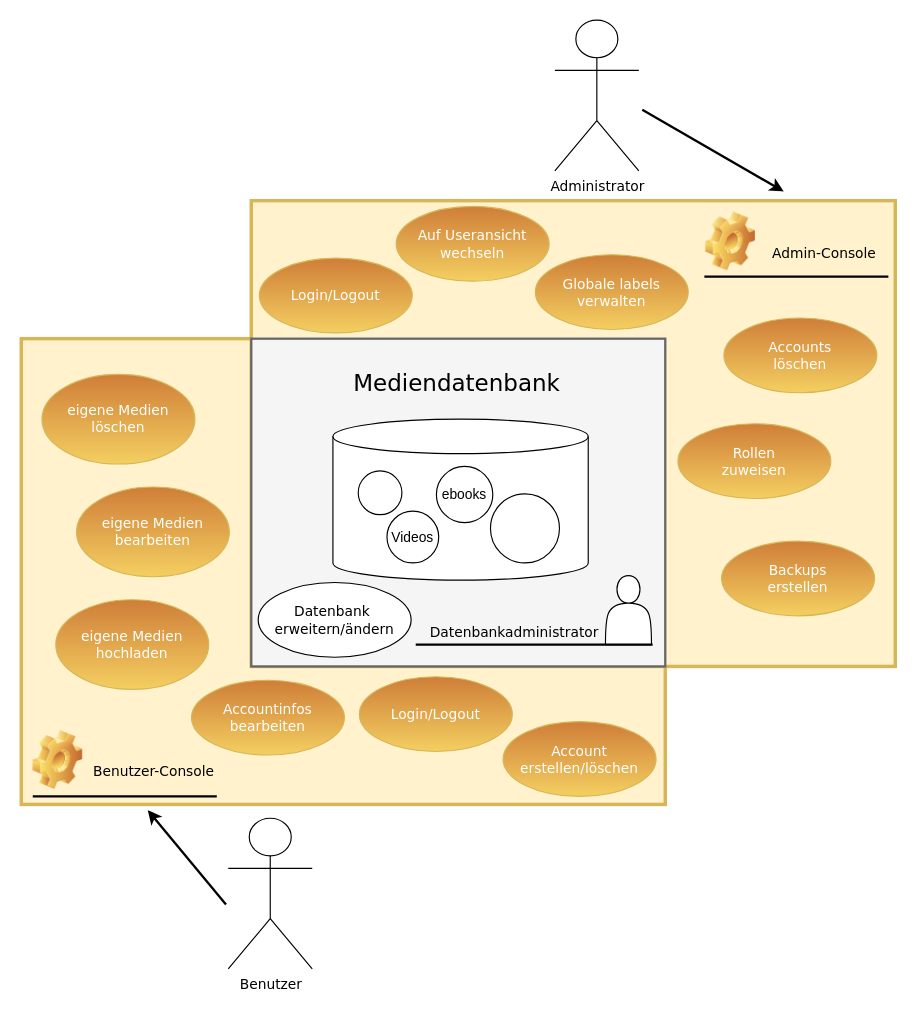
This 917x1013 diagram has some shape labels left out. The centre of each missing label's shape, as x and y in pixels:
"Fotos" belongs at point 379,492.
"Hörbücher" belongs at point 524,528.
